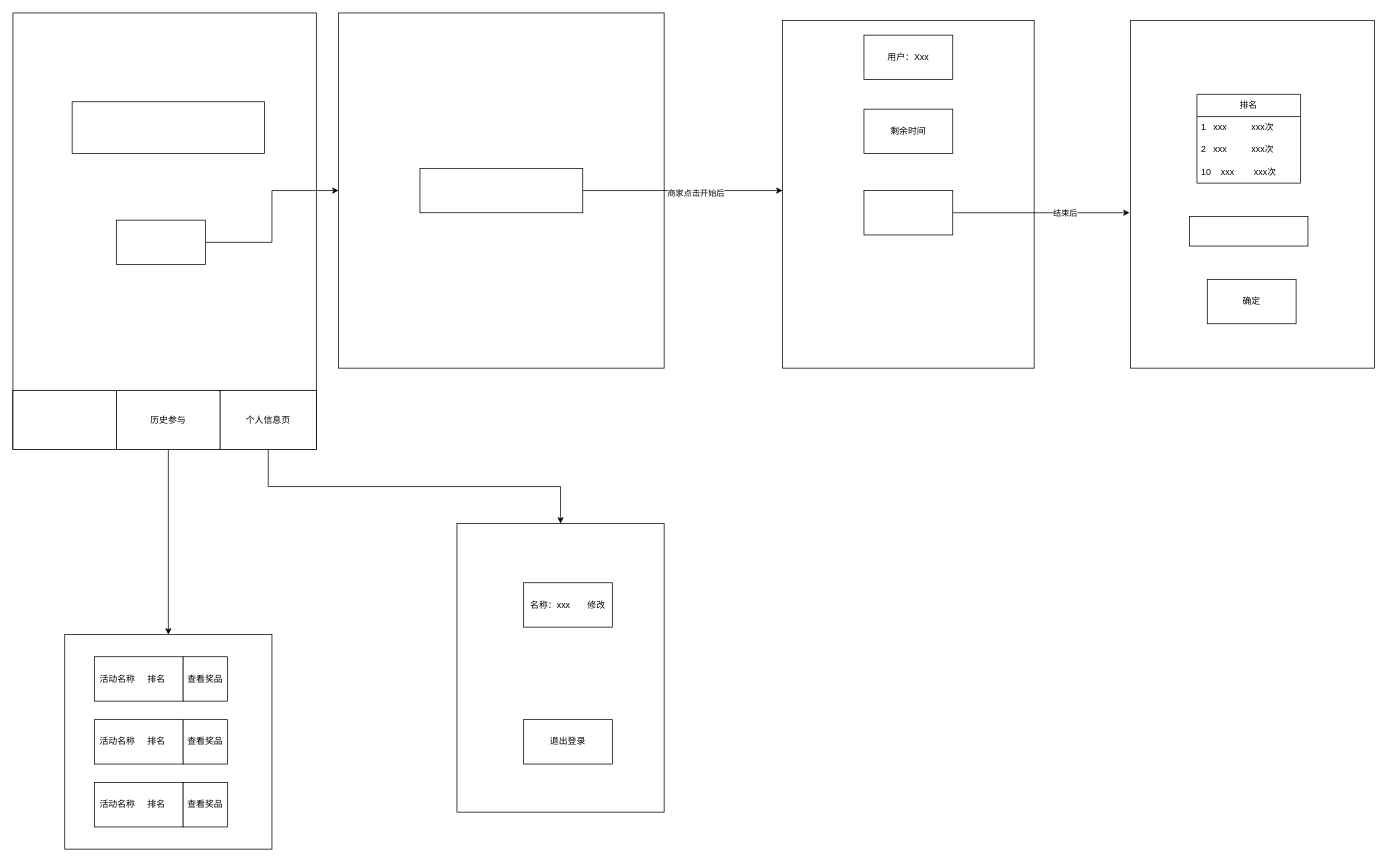
Some shapes in this 1388 by 862 pixel diagram are drawn without their labels. Each missing label, with the centre of its shape:
"参与" goes at (64,420).
"您的排名：xxx 恭喜\抱歉" goes at (1248,231).
"房间号输入" goes at (168,127).
"摇晃次数：xxx" goes at (908,212).
"活动还未开始，请稍等" goes at (501,190).
"进入" goes at (160,242).
